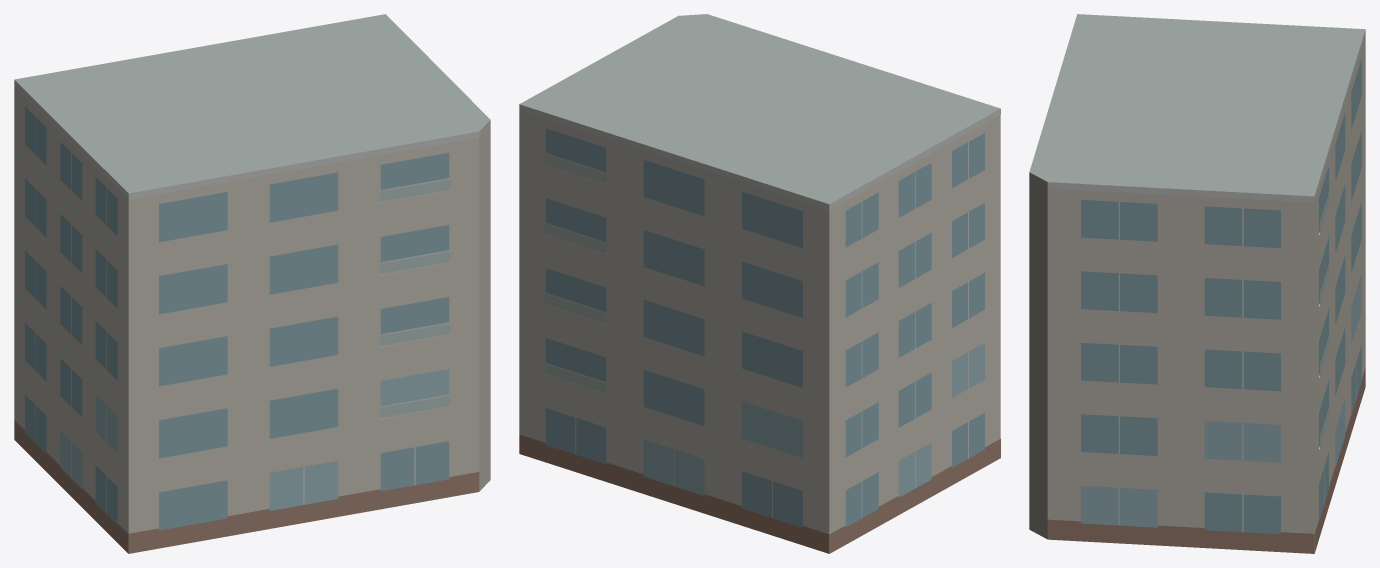
The model's file is survey-upis-32659140.glb.
3 views of the same model, side by side, from view 1: azimuth 30°, elevation 25°; view 2: azimuth 150°, elevation 25°; view 3: azimuth 270°, elevation 25° (orthographic). The views are drawn at different scales.
Parts seen in each view (by area): view 1: survey-upis-32659140.tmp; view 2: survey-upis-32659140.tmp; view 3: survey-upis-32659140.tmp.
Part boxes in pixels (x1,y1,x2,y2): survey-upis-32659140.tmp: (14,14,490,553); survey-upis-32659140.tmp: (519,14,1000,553); survey-upis-32659140.tmp: (1029,14,1365,553).
Bounding box in the file's own units: 15.22 × 13.9 × 11.86.
